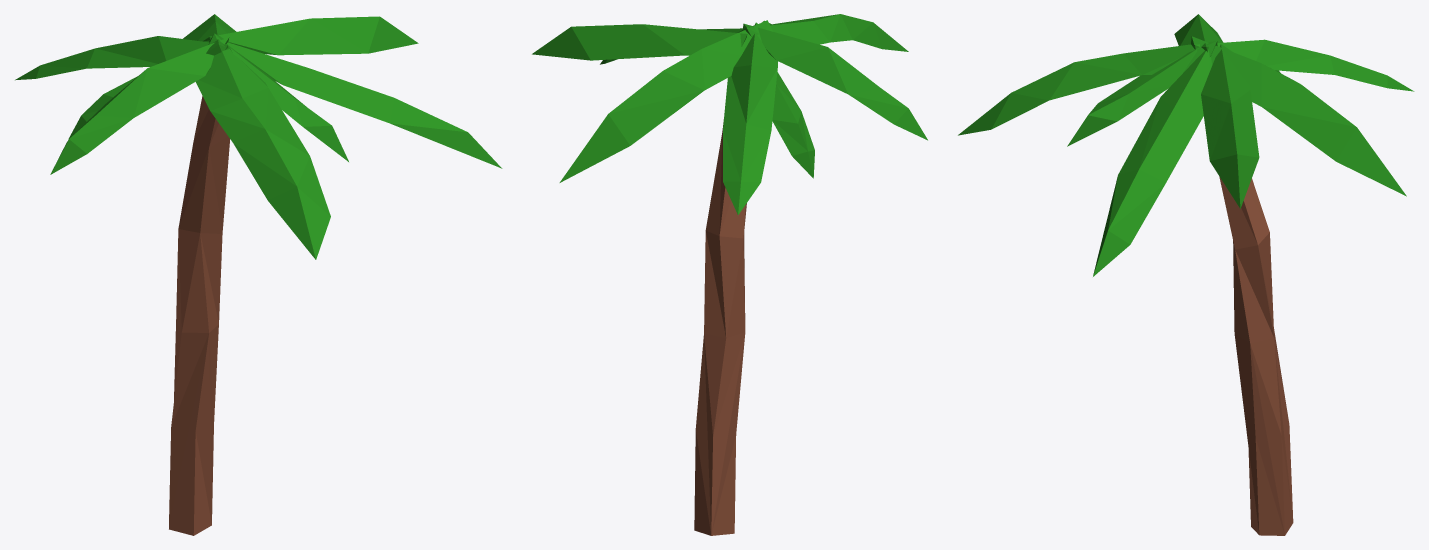
The model's file is Tree_13_summer_pal.fbx.
3 views of the same model, side by side, from view 1: azimuth 30°, elevation 25°; view 2: azimuth 150°, elevation 25°; view 3: azimuth 270°, elevation 25° (orthographic). The views are drawn at different scales.
Visible parts, largest first — view 1: Tree_13_summer_pal; view 2: Tree_13_summer_pal; view 3: Tree_13_summer_pal.
Boxes of the visible parts, bbox=[...] form: Tree_13_summer_pal: bbox=[15, 14, 502, 535]; Tree_13_summer_pal: bbox=[532, 14, 927, 535]; Tree_13_summer_pal: bbox=[958, 14, 1414, 535].
Bounding box in the file's own units: 189 × 233 × 198.
